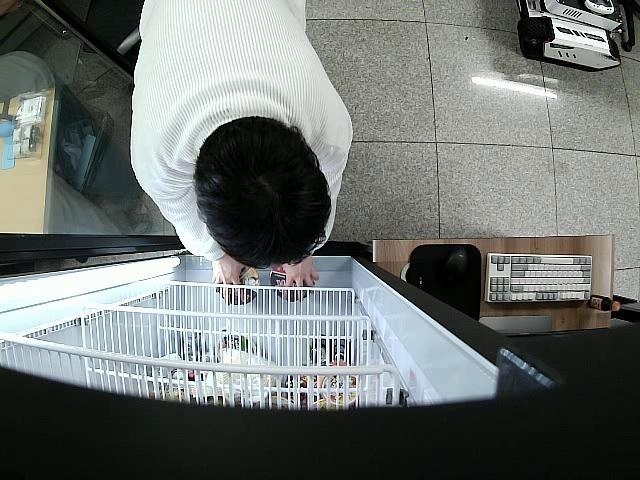07_buldak_L: (214, 266, 258, 307), (270, 265, 310, 302)
